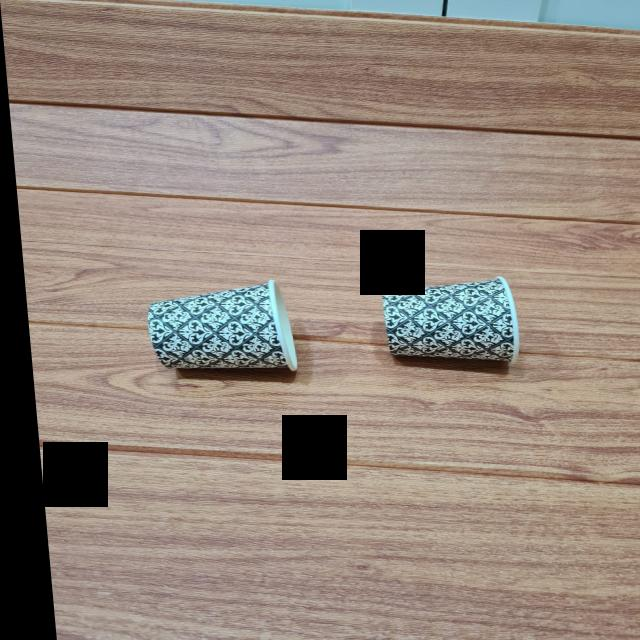cups: (133, 278, 295, 372), (366, 275, 522, 364)
